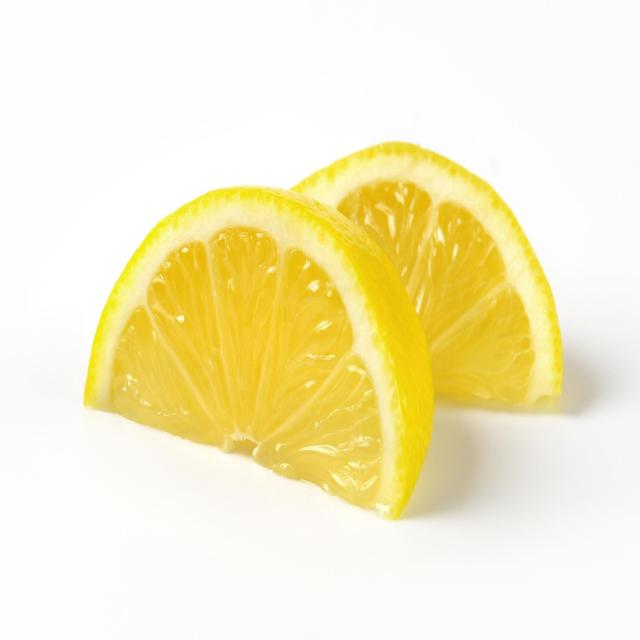lemon: (80, 133, 568, 524)
